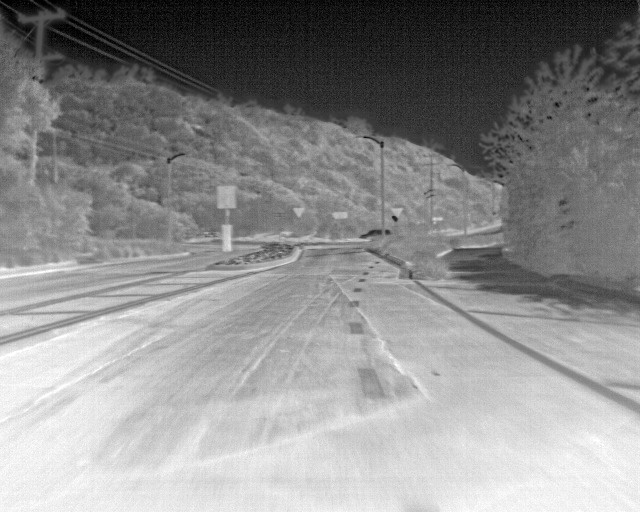car: (353, 220, 398, 243)
